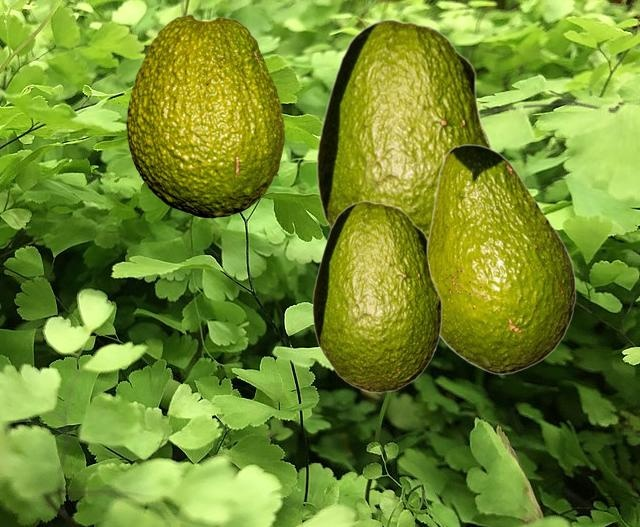avocado: (316, 18, 494, 236), (427, 144, 575, 373), (126, 14, 283, 217), (312, 200, 441, 392)
